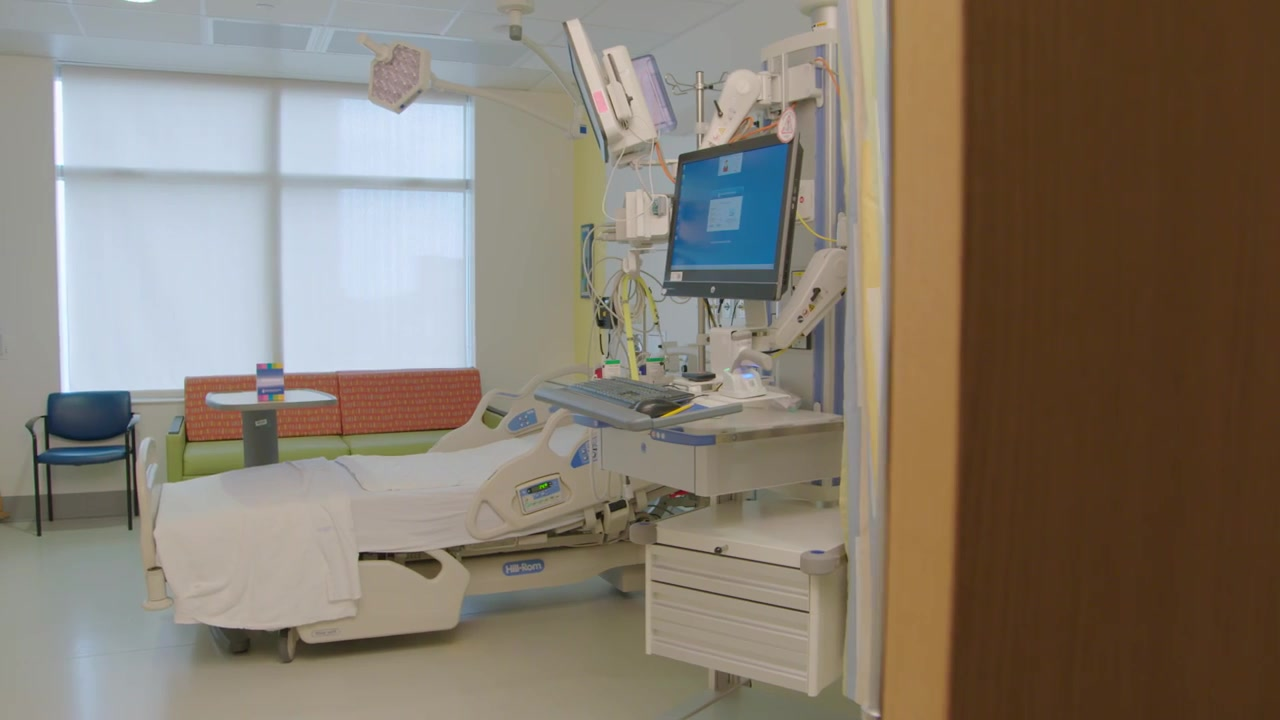bedrail: (463, 401, 605, 543), (295, 549, 471, 645), (416, 363, 595, 452)
bedside_monitor: (557, 18, 623, 166)
chair: (23, 387, 142, 534)
computer: (661, 130, 804, 302)
curtain: (55, 61, 483, 407)
drawer: (642, 501, 843, 698)
foot_board: (132, 432, 164, 569)
hospital_bed: (137, 365, 665, 663)
iv_pole: (663, 68, 731, 148)
keyboard: (573, 377, 694, 405)
mouse: (636, 399, 683, 418)
overbed_table: (203, 384, 343, 466)
sofa: (166, 365, 519, 482)
surgical_light: (369, 42, 430, 113)
